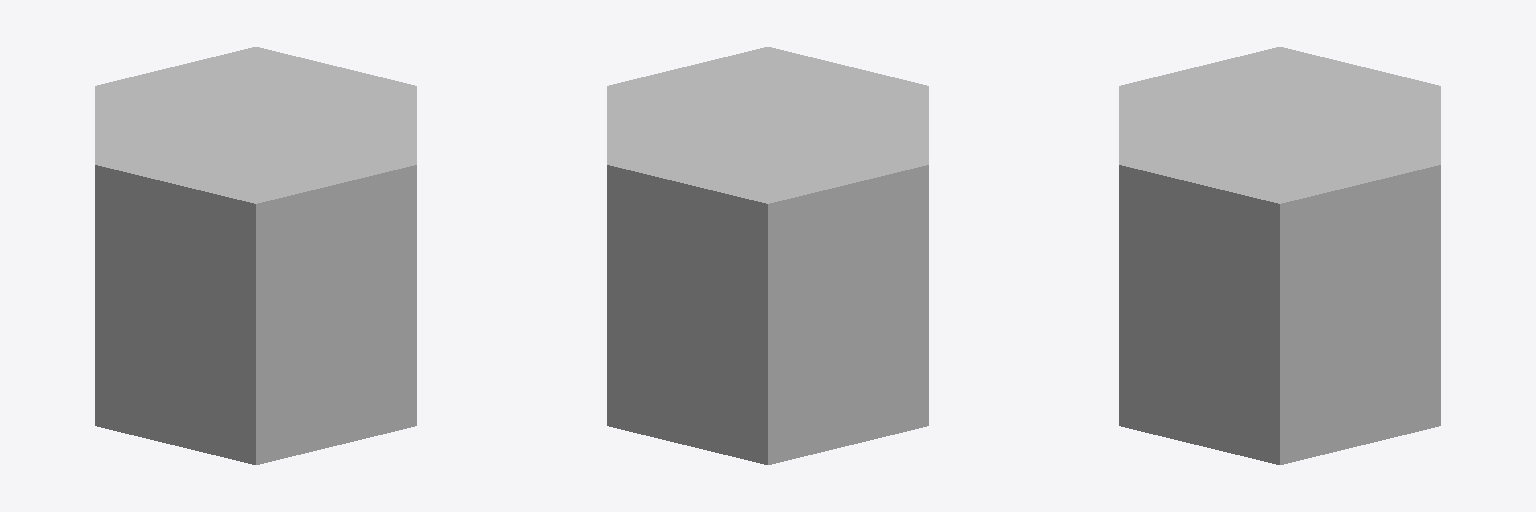
The model's file is wheel.obj.
3 renders of one model, left to right at view 1: azimuth 30°, elevation 25°; view 2: azimuth 150°, elevation 25°; view 3: azimuth 270°, elevation 25°, orthographic.
Visible parts, largest first — view 1: Cylinder01; view 2: Cylinder01; view 3: Cylinder01.
Boxes of the visible parts, <box> form: Cylinder01: <box>95,47,416,464</box>; Cylinder01: <box>607,47,928,464</box>; Cylinder01: <box>1119,47,1440,464</box>.
Size of the model in its own units: 4.77 by 3.69 by 4.13.